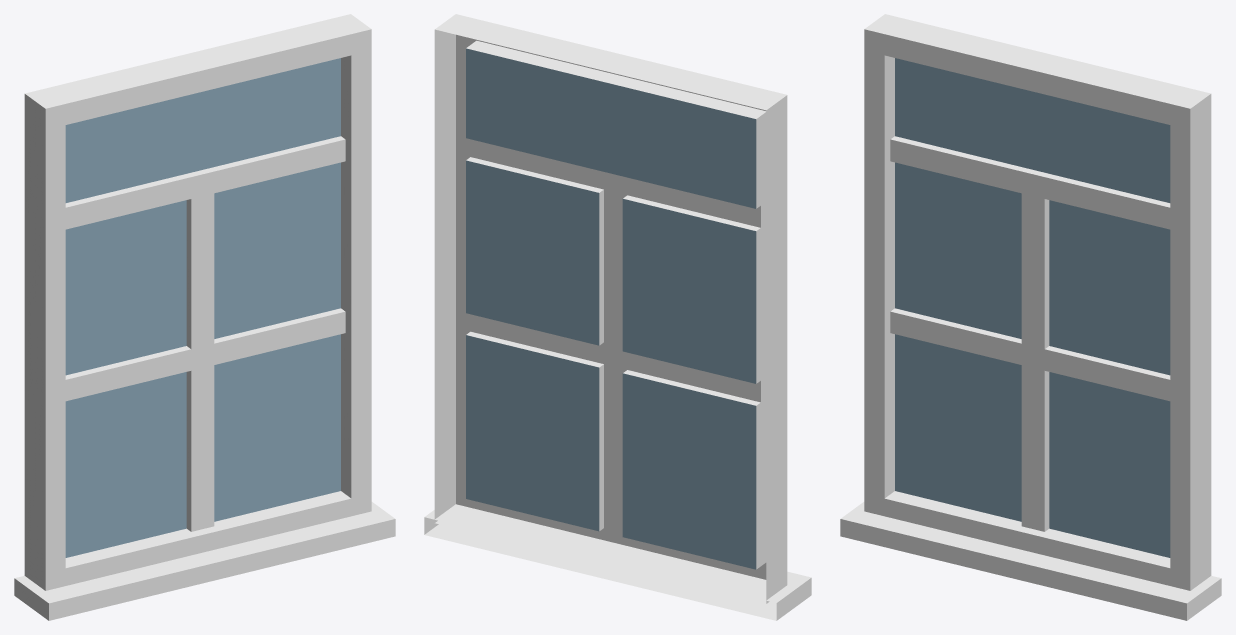
Rendered from window 1.fbx.
3 renders of one model, left to right at view 1: azimuth 30°, elevation 25°; view 2: azimuth 150°, elevation 25°; view 3: azimuth 330°, elevation 25°, orthographic.
Visible parts, largest first — view 1: window; view 2: window; view 3: window.
Part boxes in pixels (left/top/right/bottom): window: left=14, top=14, right=395, bottom=620; window: left=424, top=14, right=811, bottom=620; window: left=840, top=14, right=1221, bottom=620.
Bounding box in the file's own units: 1.49 × 2.06 × 0.2573.
2 materials, 1 textured.
